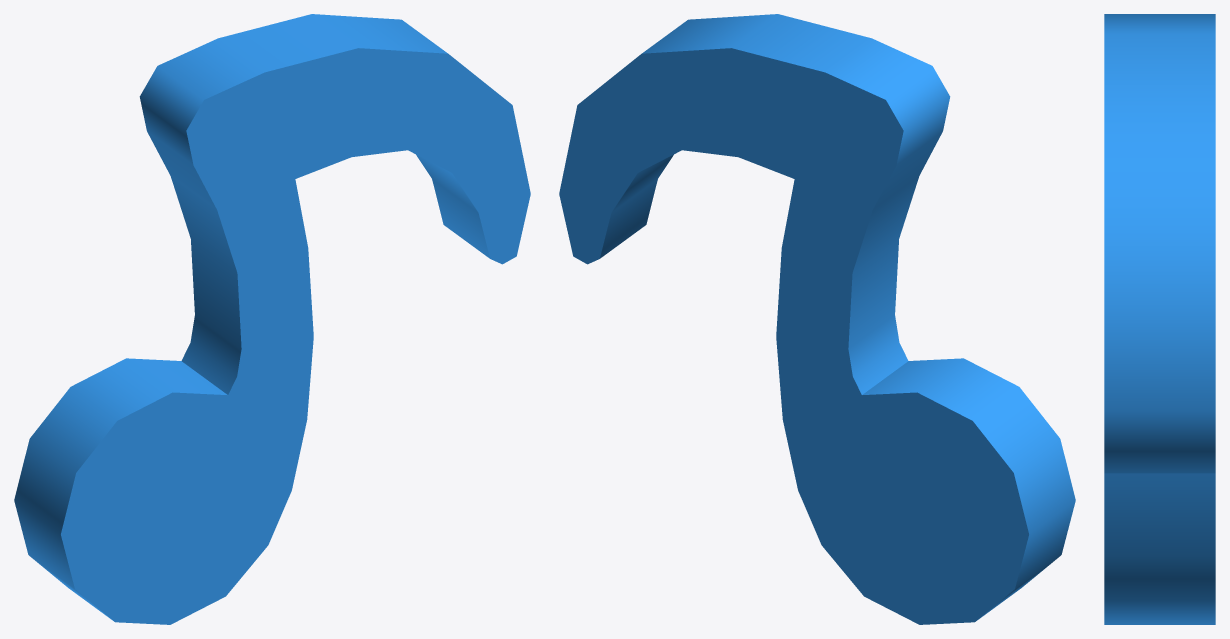
The model's file is EighthNote.FBX.
3 renders of one model, left to right at view 1: azimuth 30°, elevation 25°; view 2: azimuth 150°, elevation 25°; view 3: azimuth 270°, elevation 25°, orthographic. The views are drawn at different scales.
Visible parts, largest first — view 1: EighthNote; view 2: EighthNote; view 3: EighthNote.
Boxes of the visible parts, bbox=[...] form: EighthNote: bbox=[14, 14, 530, 624]; EighthNote: bbox=[559, 14, 1075, 624]; EighthNote: bbox=[1104, 14, 1215, 624].
Bounding box in the file's own units: 81.51 × 87.98 × 14.
